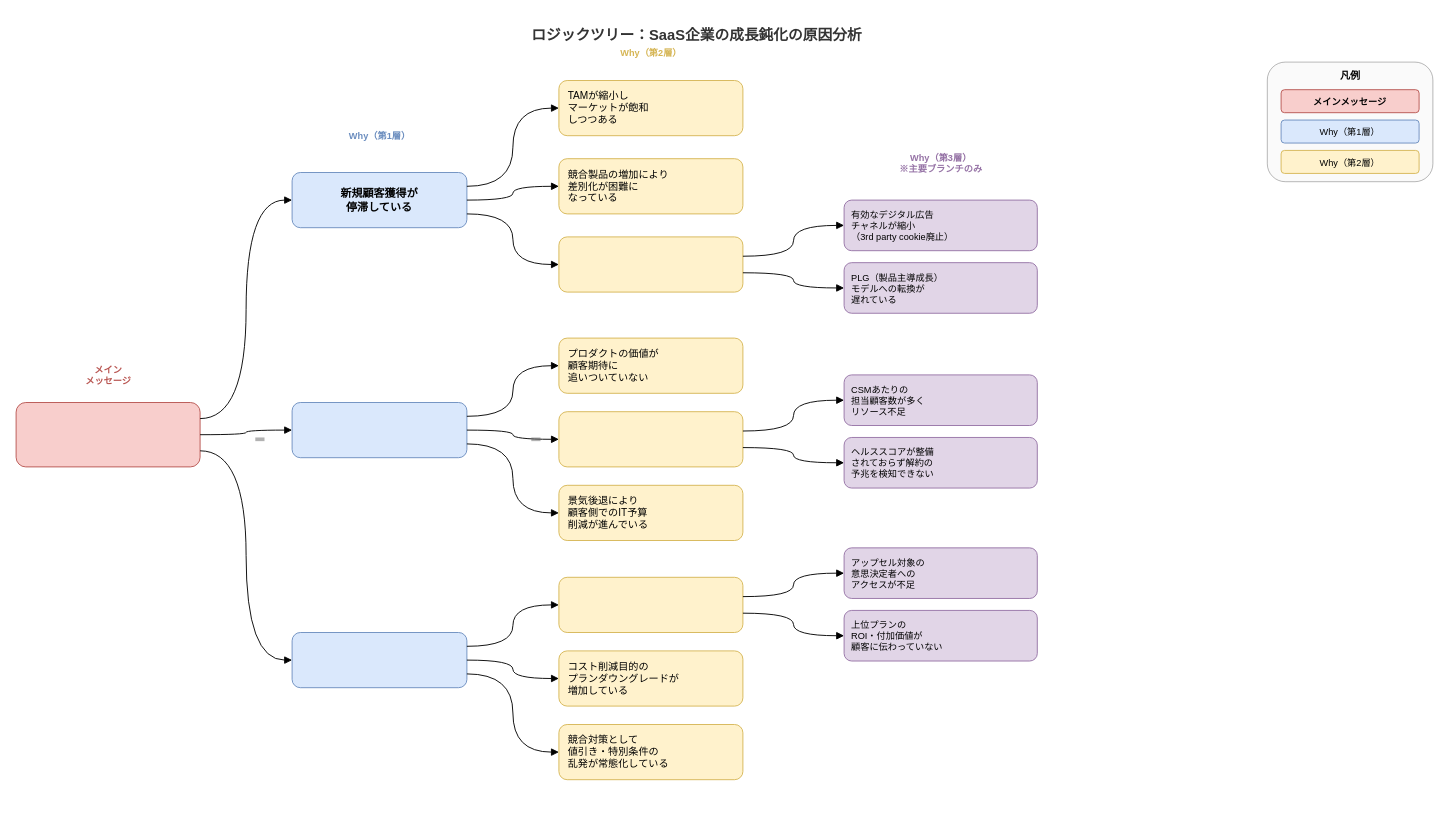
This 1449x834 diagram has some shape labels left out. Here are the shapes that lost their labels. From the top down, the centre of each, then its label:
At [650,264]: "顧客獲得コスト（CAC）が 上昇し、ROIが 悪化している".
At [107,434]: "SaaS企業の成長が 鈍化している".
At [379,430]: "既存顧客の 解約が増加している".
At [650,439]: "オンボーディング・ カスタマーサクセスが 機能していない".
At [650,604]: "上位プランへの アップセルが 進んでいない".
At [379,660]: "顧客単価（ARPU）が 低下している".
